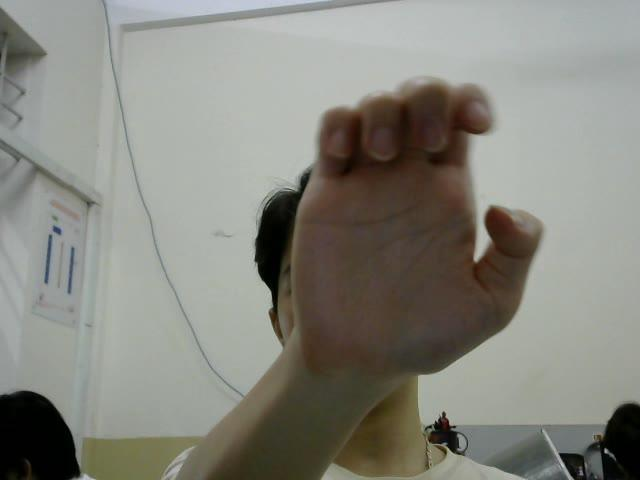E: (289, 72, 544, 374)
